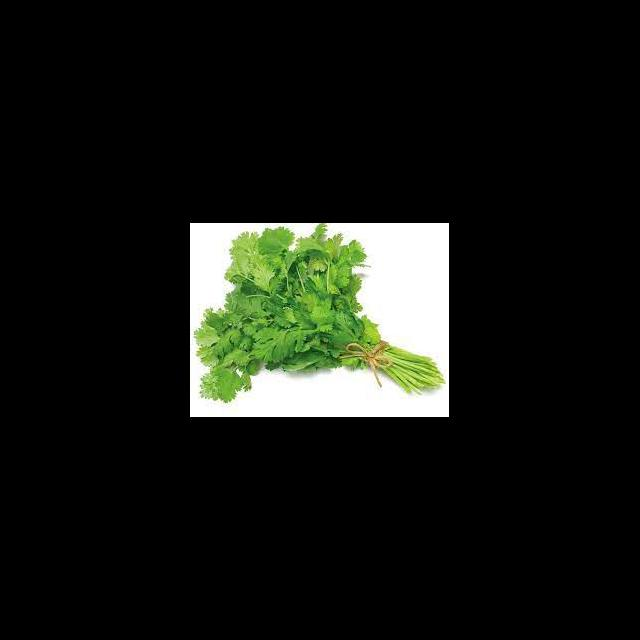cilantro: (194, 223, 446, 403)
